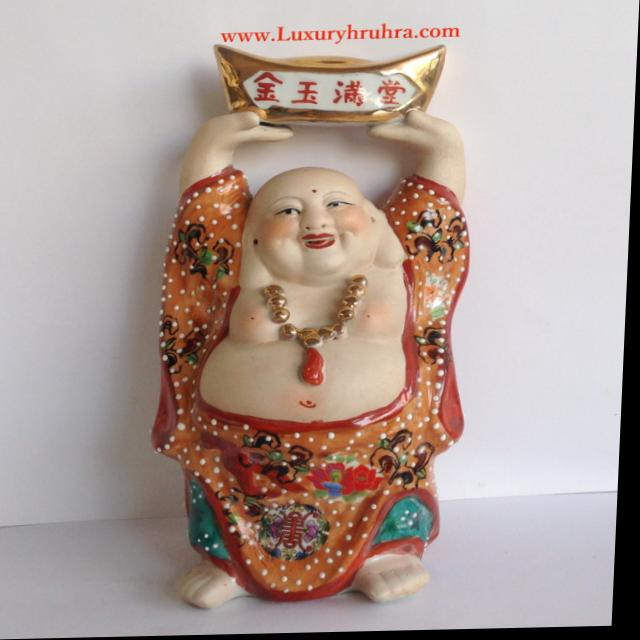Smiling Buddha: (154, 159, 486, 582)
